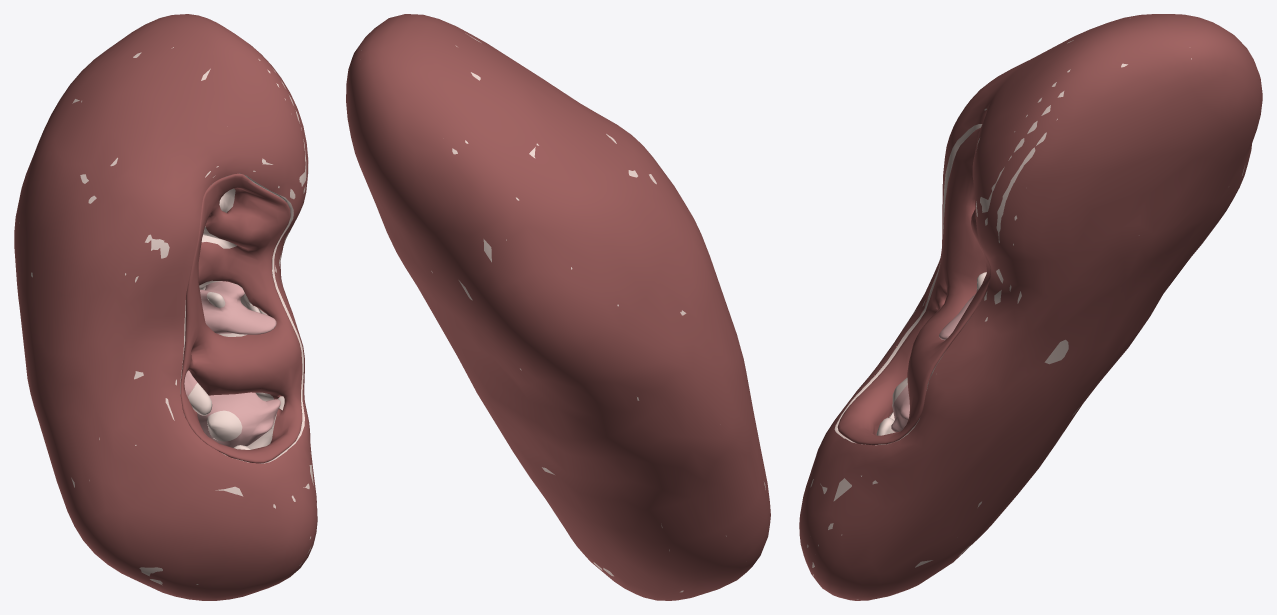
The model's file is kidney_r.glb.
The picture shows the model from 3 angles, left to right: view 1: azimuth 30°, elevation 25°; view 2: azimuth 150°, elevation 25°; view 3: azimuth 270°, elevation 25°; orthographic projection. The views are drawn at different scales.
Size of the model in its own units: 0.0655 by 0.1125 by 0.0764.
